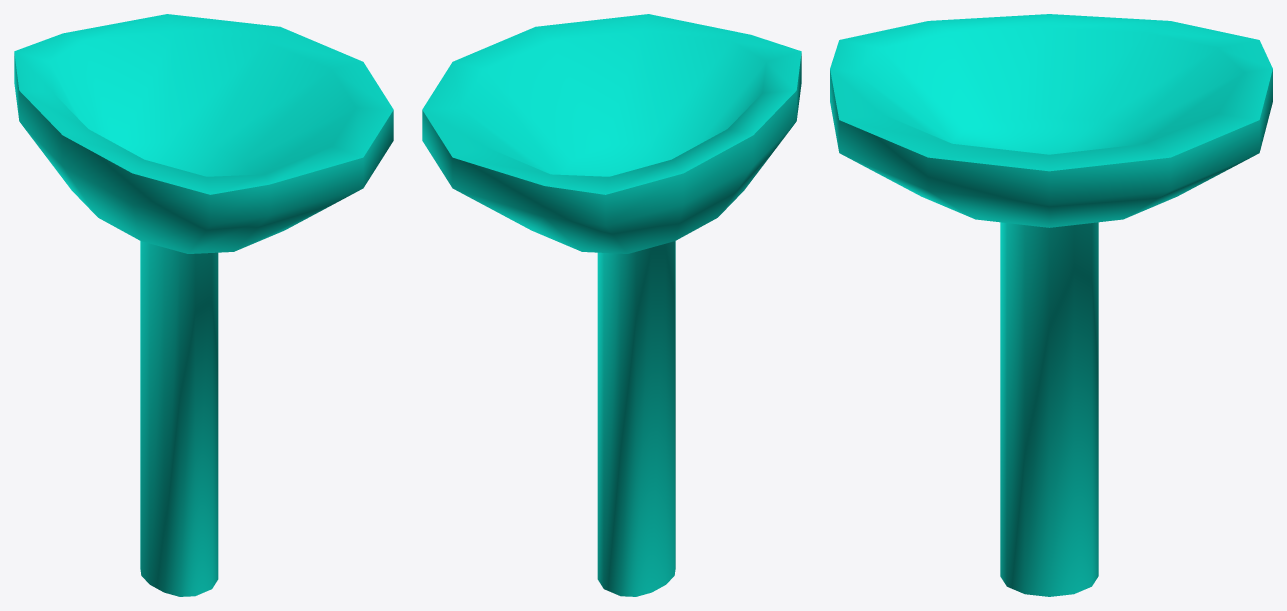
File: bathroom_Sink.fbx
3 renders of one model, left to right at view 1: azimuth 30°, elevation 25°; view 2: azimuth 150°, elevation 25°; view 3: azimuth 270°, elevation 25°, orthographic. The views are drawn at different scales.
Parts seen in each view (by area): view 1: bathroom_Sink; view 2: bathroom_Sink; view 3: bathroom_Sink.
Boxes of the visible parts, x1,y1,x2,y2 form: bathroom_Sink: (14, 14, 393, 596); bathroom_Sink: (422, 14, 801, 596); bathroom_Sink: (830, 14, 1272, 596).
Bounding box in the file's own units: 2.35 × 3.51 × 2.79.
